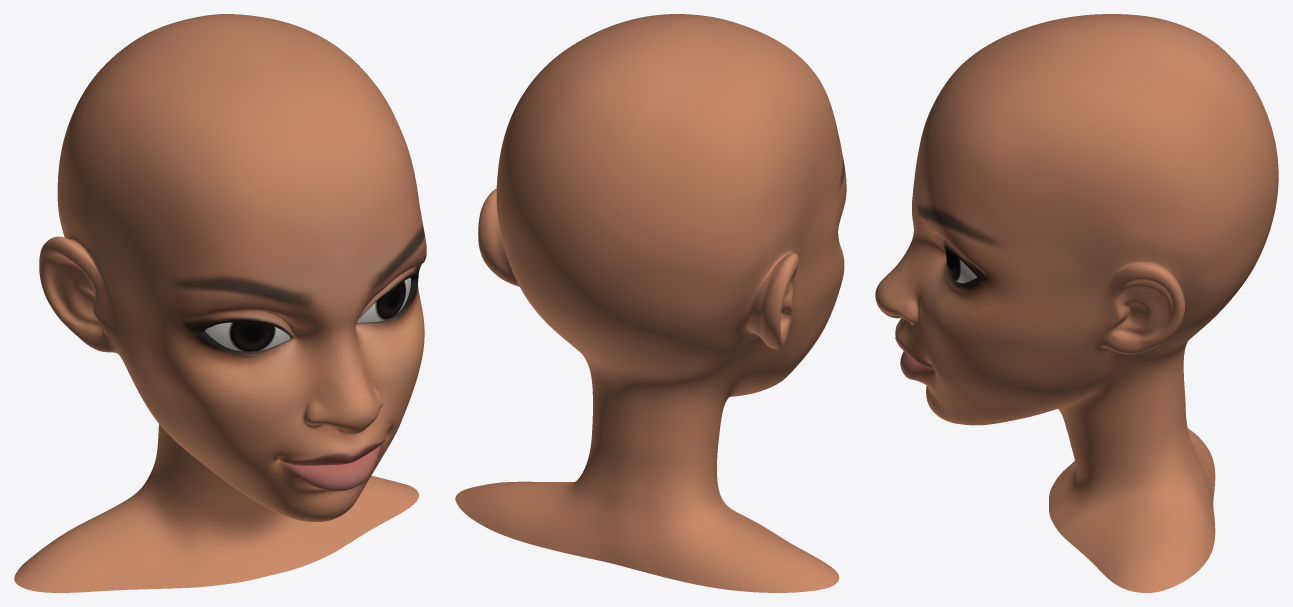
The model's file is african_female_0001_grp_head.glb.
3 renders of one model, left to right at view 1: azimuth 30°, elevation 25°; view 2: azimuth 150°, elevation 25°; view 3: azimuth 270°, elevation 25°, orthographic. The views are drawn at different scales.
Parts seen in each view (by area): view 1: african_female_body_0001_geo, african_female_eye_0001_geo; view 2: african_female_body_0001_geo; view 3: african_female_body_0001_geo, african_female_eye_0001_geo.
Part boxes in pixels (<box>): african_female_body_0001_geo: <box>14,14,426,592</box>; african_female_eye_0001_geo: <box>205,278,410,351</box>; african_female_body_0001_geo: <box>455,14,846,592</box>; african_female_body_0001_geo: <box>875,14,1278,592</box>; african_female_eye_0001_geo: <box>946,249,976,283</box>.
Bounding box in the file's own units: 0.2776 × 0.3447 × 0.266.
Materials: 3 (2 with a texture image).
